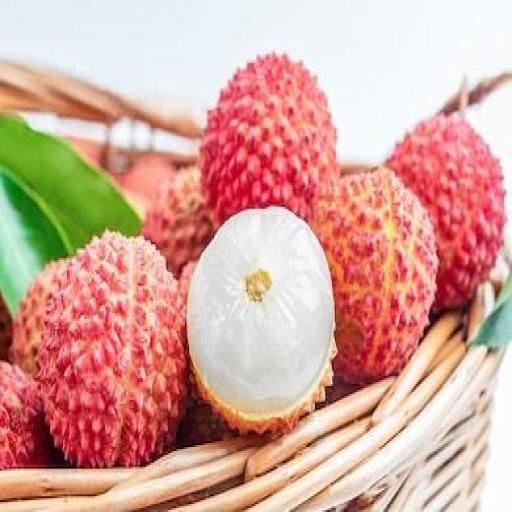lychee: (39, 233, 189, 466), (187, 207, 334, 433), (313, 168, 438, 383), (200, 54, 337, 224), (386, 115, 505, 309), (144, 168, 213, 275), (10, 260, 63, 376), (0, 363, 55, 468), (115, 154, 175, 208), (178, 400, 236, 447), (179, 260, 196, 305), (0, 296, 11, 360)
